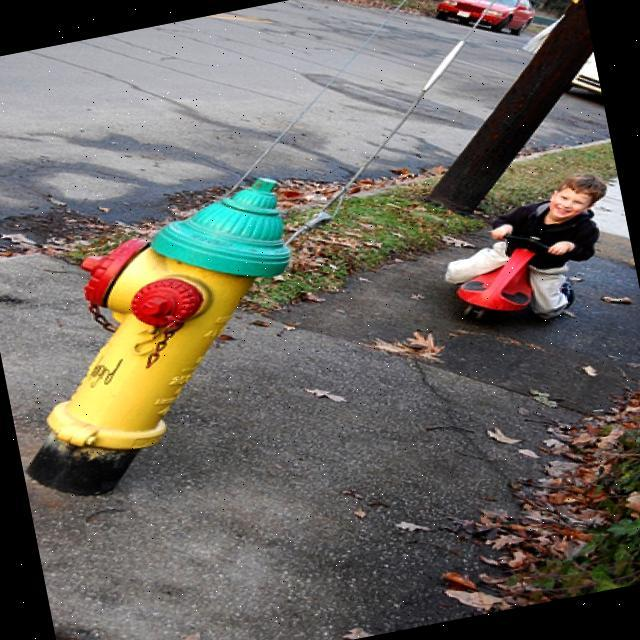fire_hydrant: (0, 177, 329, 511)
